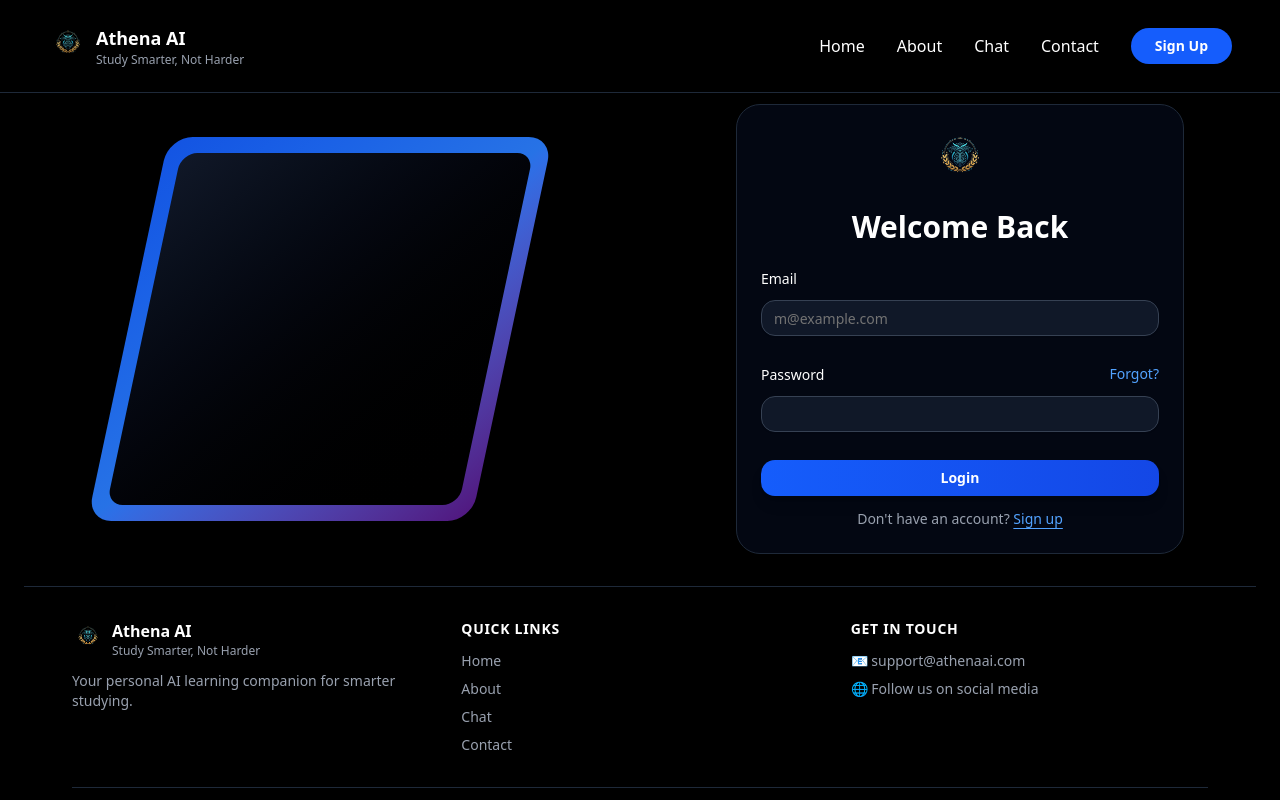
Scenario: LoginForm › clears a field's error while the user corrects it
The image size is (1280, 800).
Step 1. Type "me@example.com" into the field labelled "Email" → [960, 318], box [761, 300, 1159, 336]
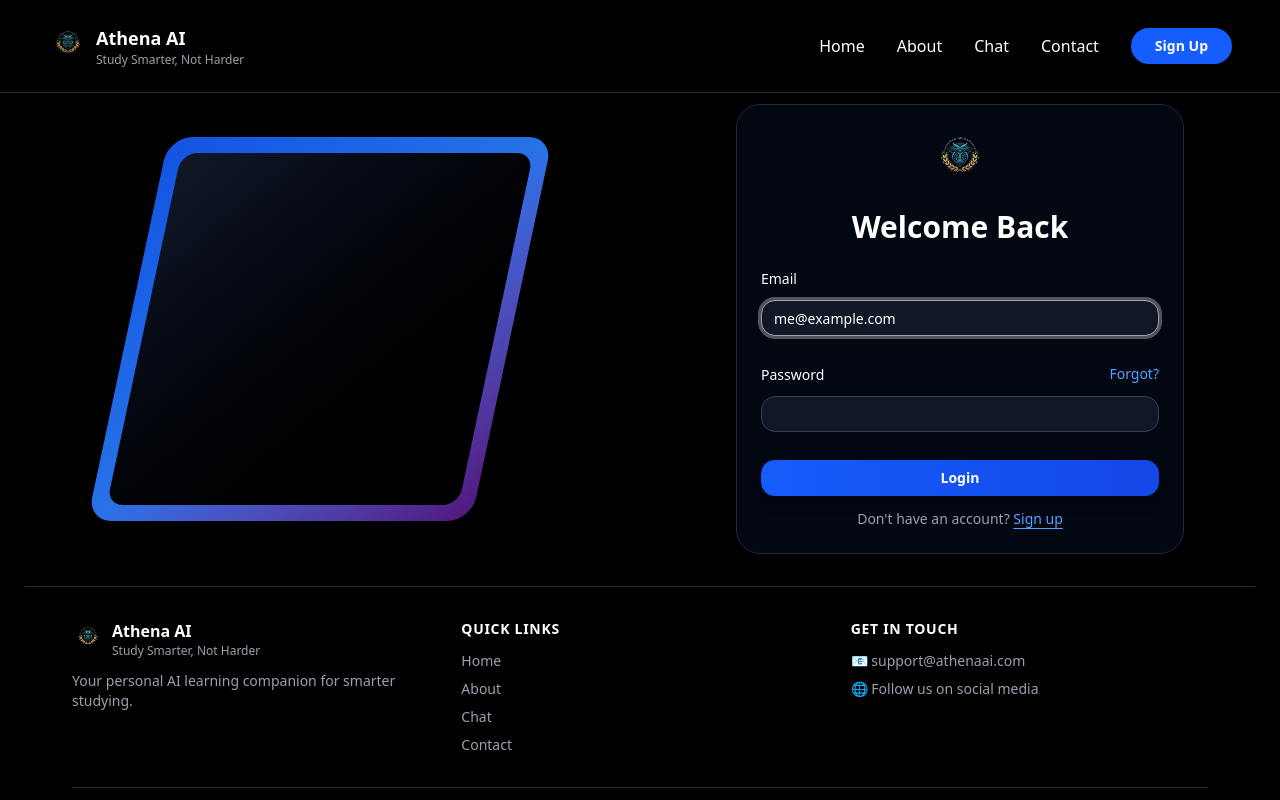
Step 2. Type "abc" into the password field labelled "Password" → [960, 414], box [761, 396, 1159, 432]
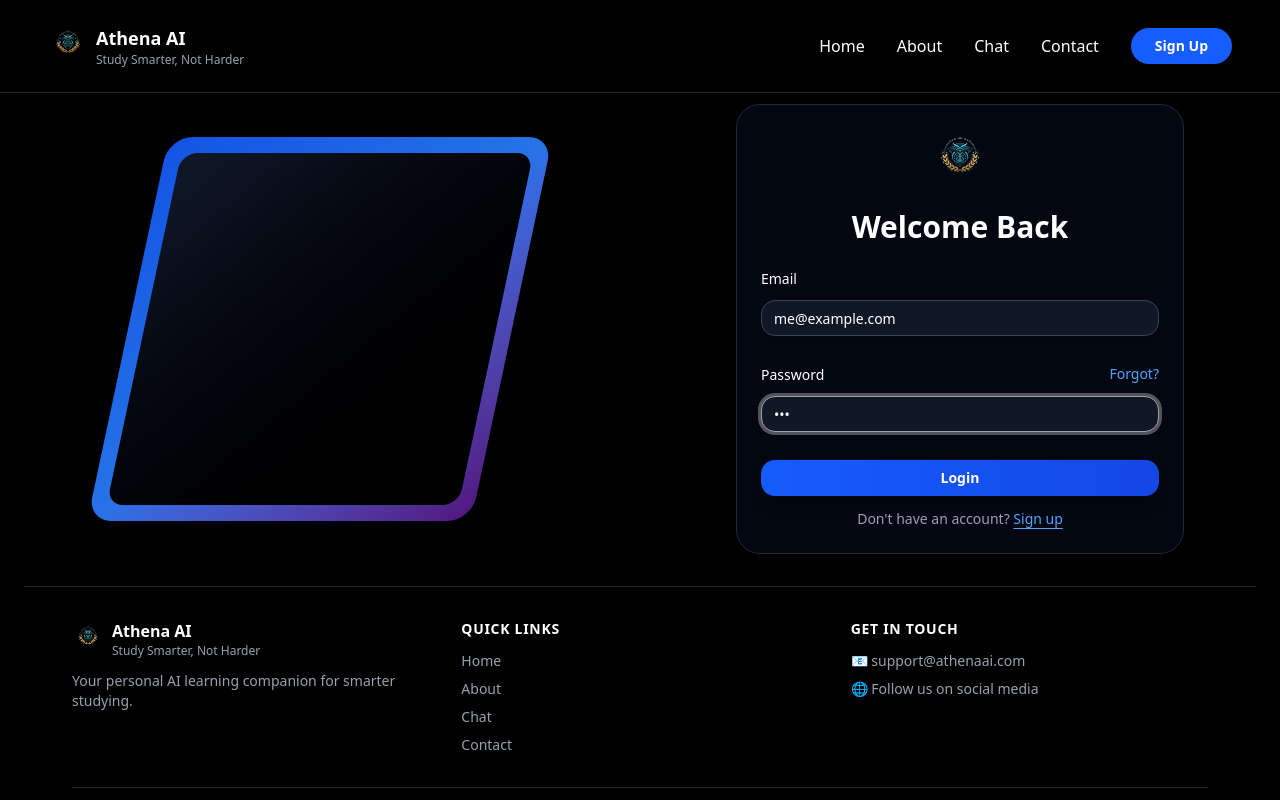
Step 3. Click the submit button → [960, 478], box [761, 460, 1159, 496]
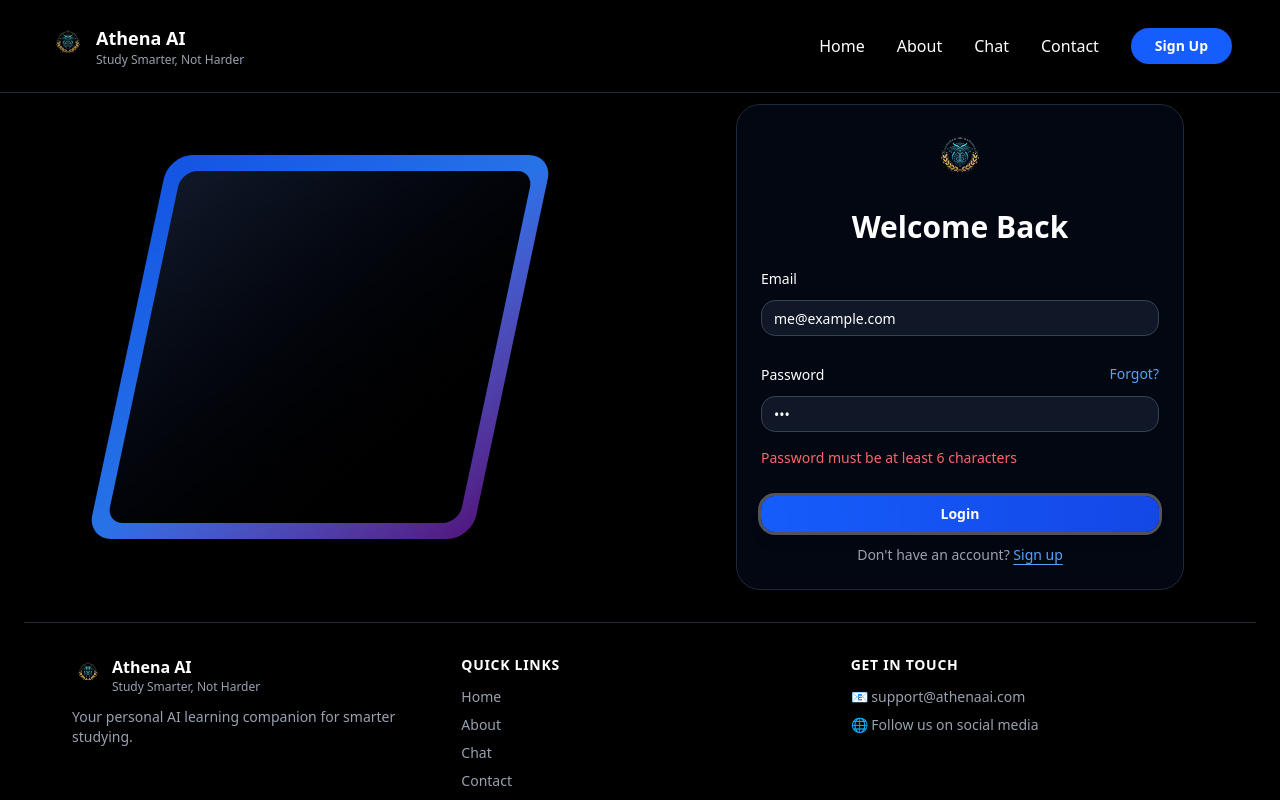
Step 4. Type "defgh" into the password field labelled "Password" → [960, 414], box [761, 396, 1159, 432]
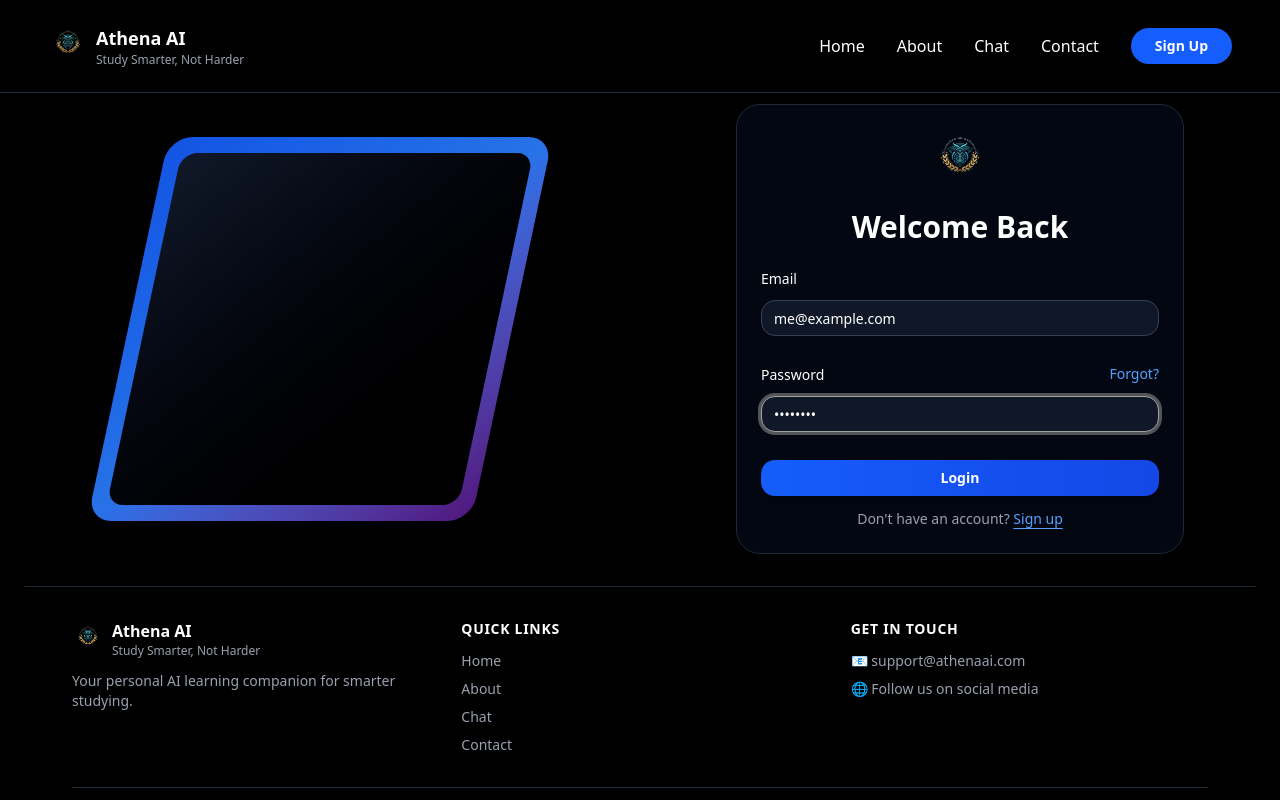
Now the text "Password must be at least 6 characters" is gone
